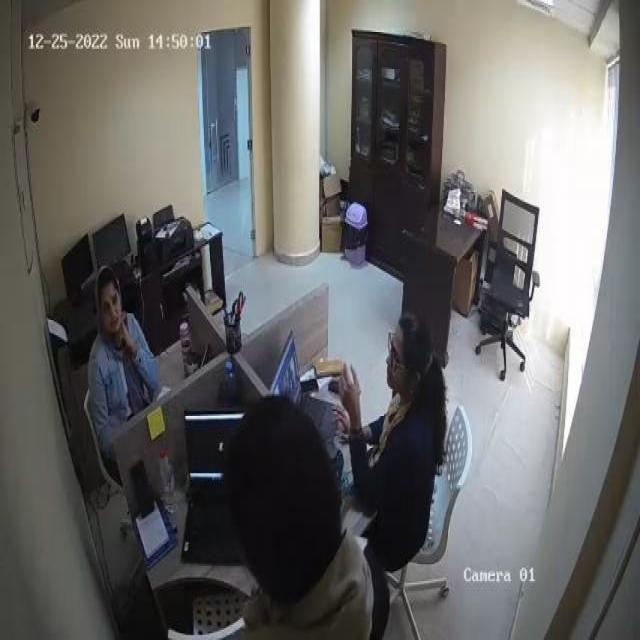bare_hand: (334, 354, 370, 445), (118, 301, 142, 362)
